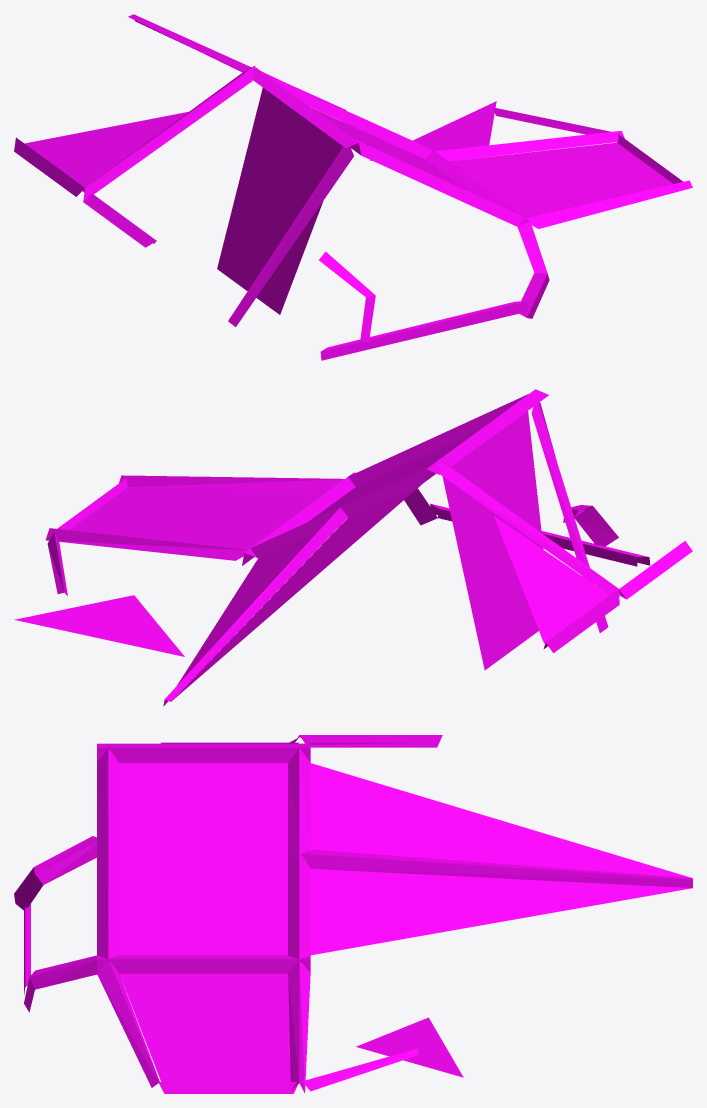
The model's file is gnomeglidercrashed.obj.
The picture shows the model from 3 angles, top to bottom: view 1: azimuth 30°, elevation 25°; view 2: azimuth 150°, elevation 25°; view 3: azimuth 270°, elevation 25°; orthographic projection. The views are drawn at different scales.
Parts seen in each view (by area): view 1: gnomeglidercrashed_back; view 2: gnomeglidercrashed_back; view 3: gnomeglidercrashed_back.
Part boxes in pixels (<box>): gnomeglidercrashed_back: <box>14,14,692,360</box>; gnomeglidercrashed_back: <box>14,389,692,706</box>; gnomeglidercrashed_back: <box>14,735,692,1093</box>.
Size of the model in its own units: 4.62 by 1.58 by 4.83.
